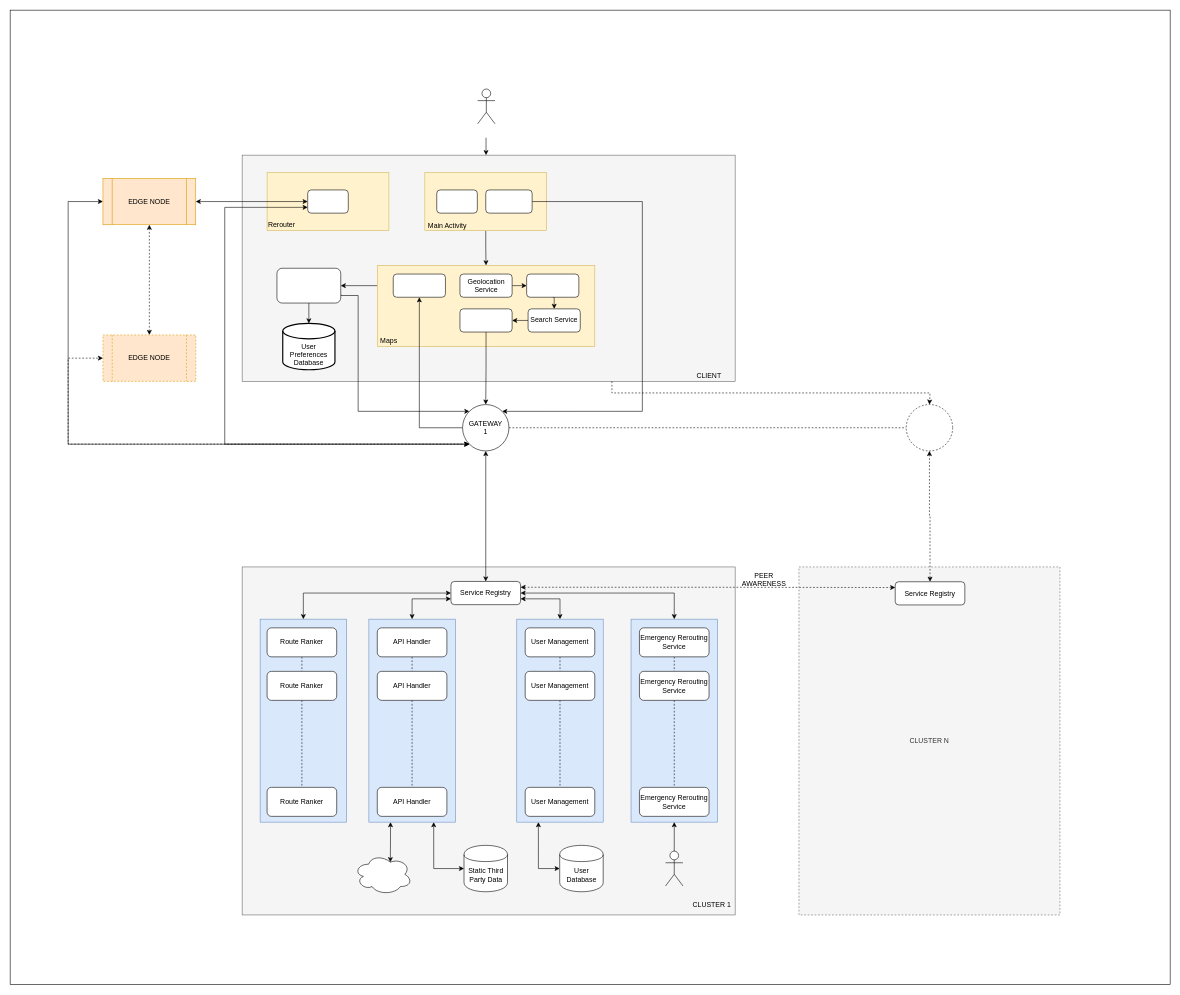
Some shapes in this 1180 by 995 pixel diagram are drawn without their labels. Here are the shapes that lost their labels. From the top down, the centre of each, then its label:
[486,106]: User
[327,201]: Rerouter Service
[456,201]: Registration
[508,201]: Login (GOAuth)
[308,285]: User Preferences
[419,285]: Presentation Service
[552,285]: Places Service
[485,320]: GeoCoding Service
[929,427]: GATEWAY N
[383,874]: Open Source Data
[674,868]: Admin
